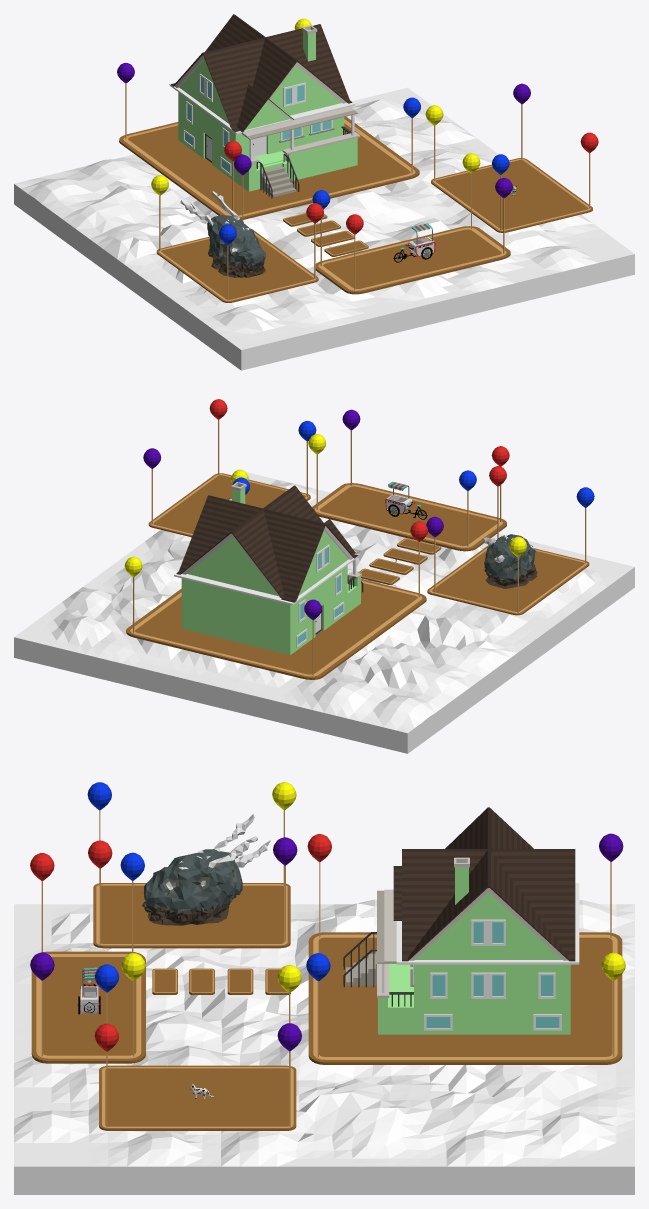
3 views of the same model, one above another, from view 1: azimuth 30°, elevation 25°; view 2: azimuth 150°, elevation 25°; view 3: azimuth 270°, elevation 25° (orthographic). The views are drawn at different scales.
Parts seen in each view (by area): view 1: Cube.013, Cube.274, OBJRANDOM_METEORITE, VEHICLES_SNOWBAL_BIKE; view 2: Cube.013, Cube.274, OBJRANDOM_METEORITE, VEHICLES_SNOWBAL_BIKE; view 3: Cube.013, Cube.274, OBJRANDOM_METEORITE, VEHICLES_SNOWBAL_BIKE.
Boxes of the visible parts, box(x1,y1,x2,y2) form: Cube.013: box(14, 18, 634, 370); Cube.274: box(169, 14, 360, 198); OBJRANDOM_METEORITE: box(180, 191, 265, 277); VEHICLES_SNOWBAL_BIKE: box(393, 223, 435, 262); Cube.013: box(14, 399, 634, 753); Cube.274: box(174, 482, 363, 655); OBJRANDOM_METEORITE: box(482, 534, 537, 588); VEHICLES_SNOWBAL_BIKE: box(385, 481, 427, 519); Cube.013: box(14, 782, 634, 1194); Cube.274: box(343, 807, 579, 1034); OBJRANDOM_METEORITE: box(142, 814, 270, 925); VEHICLES_SNOWBAL_BIKE: box(77, 967, 101, 1014).
Bounding box in the file's own units: 4000 × 1638 × 4000.
Materials: 35 (2 with a texture image).
